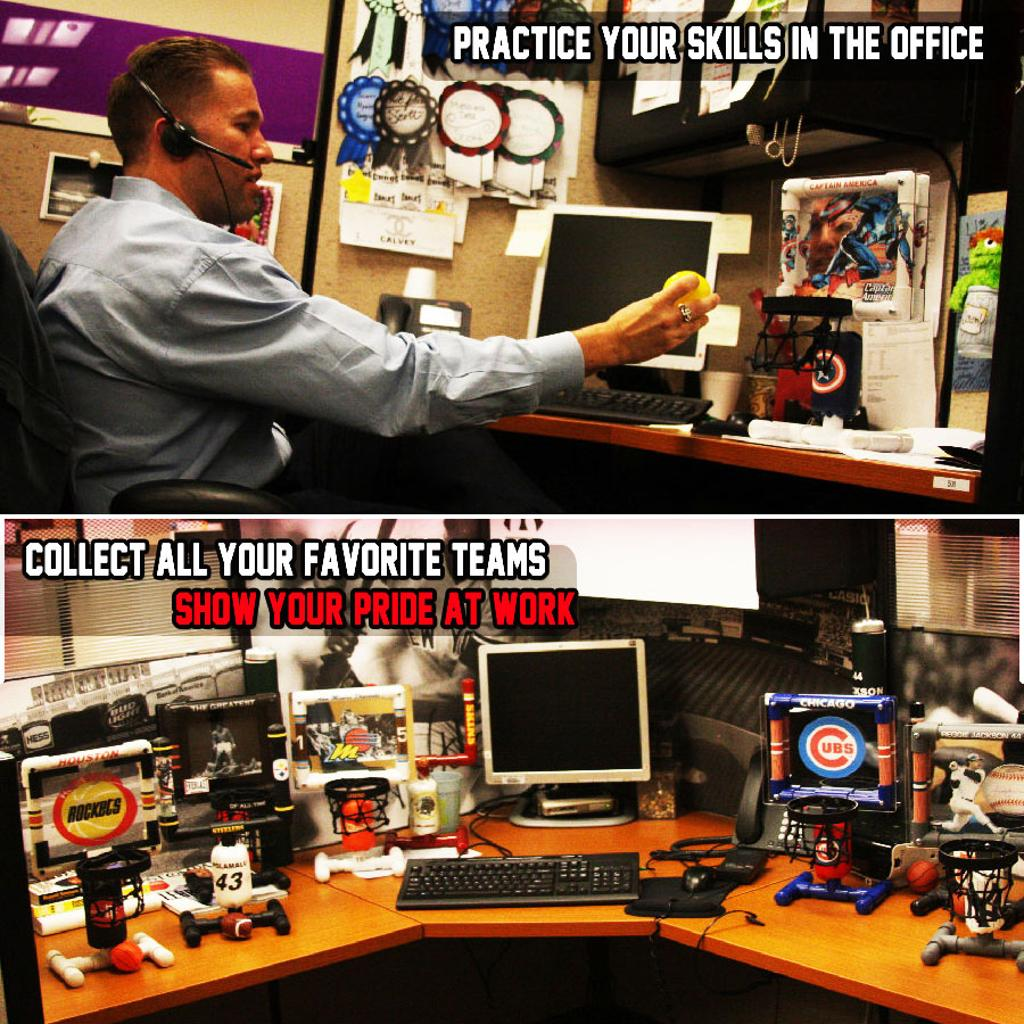face: (186, 64, 274, 222)
